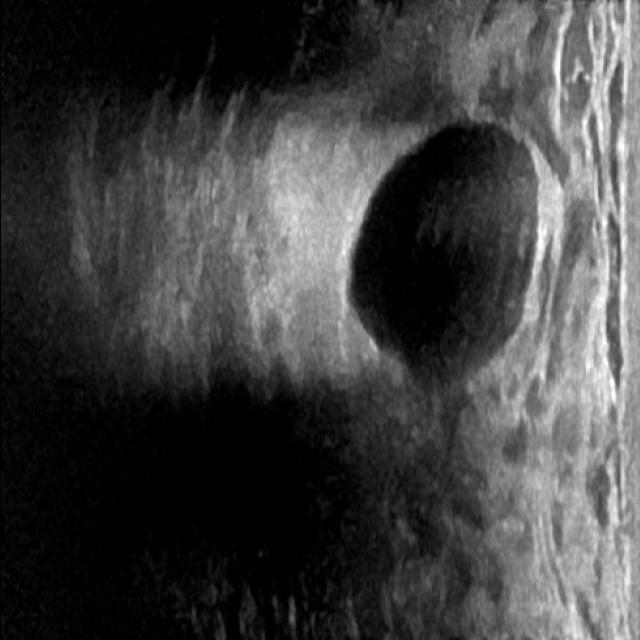Benign: (347, 116, 550, 386)
